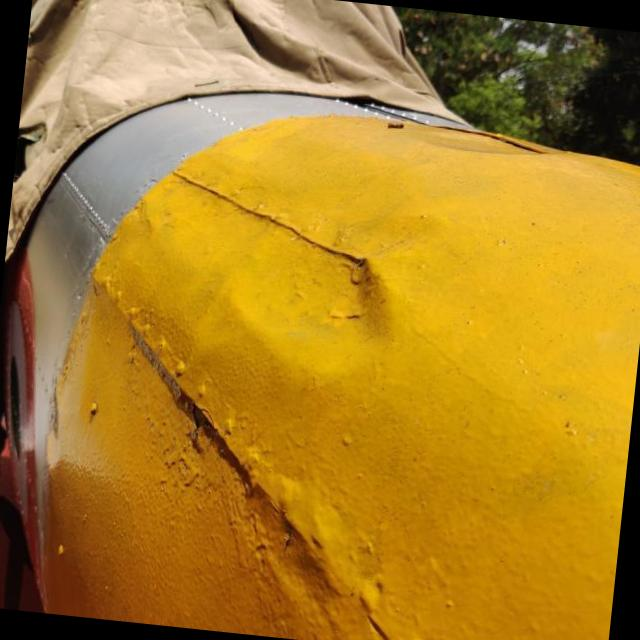Dent: (206, 210, 390, 391)
